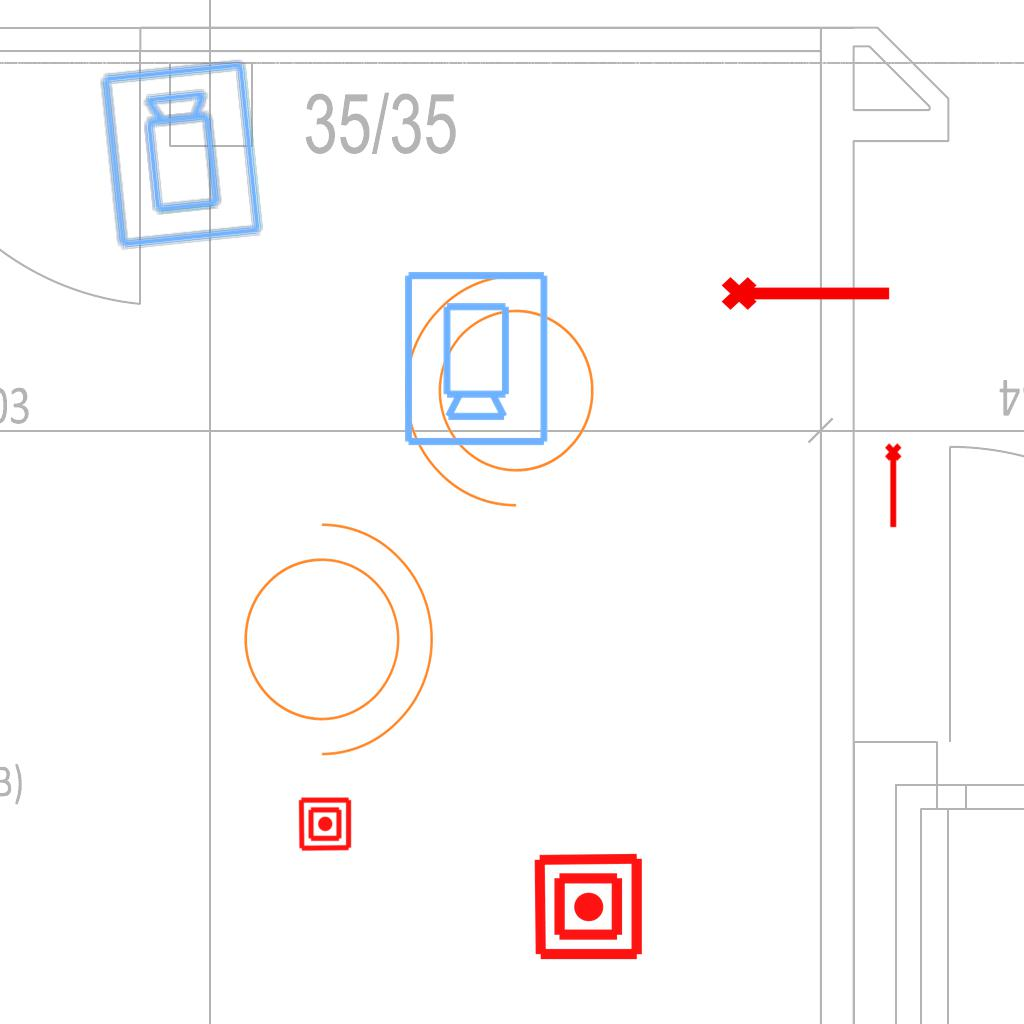ASR_Ansaugoeffnung: (719, 268, 895, 314), (883, 442, 906, 530)
KFO_Kamera_mit_Festobjektiv: (96, 56, 270, 254), (398, 267, 552, 449)
NAM-Nichtautomatischer_Melder: (532, 850, 645, 963), (297, 796, 353, 852)
Scheinwerfer_fuer_Alarmbeleuchtung: (219, 501, 444, 765), (394, 265, 619, 529)
